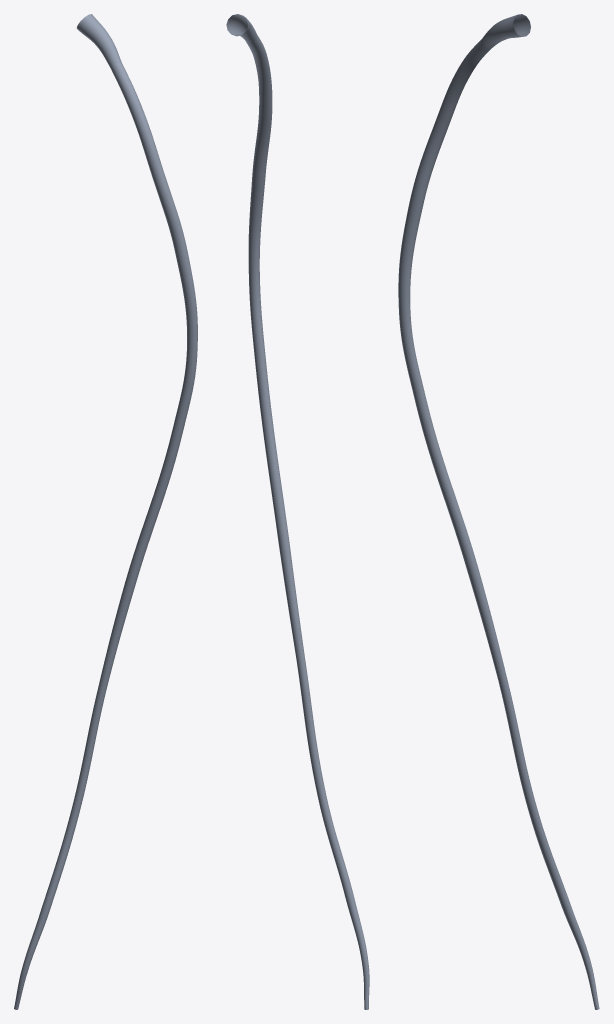
3 views of the same model, side by side, from view 1: azimuth 90°, elevation 25°; view 2: azimuth 210°, elevation 25°; view 3: azimuth 270°, elevation 25° (orthographic). The views are drawn at different scales.
Parts seen in each view (by area): view 1: 左侧（未命名结构）; view 2: 左侧（未命名结构）; view 3: 左侧（未命名结构）.
Part boxes in pixels (x1,y1,x2,y2): 左侧（未命名结构）: (14, 14, 197, 1009); 左侧（未命名结构）: (226, 14, 369, 1009); 左侧（未命名结构）: (398, 14, 599, 1009).
Size of the model in its own units: 0.00815 by 0.0717 by 0.0126.
